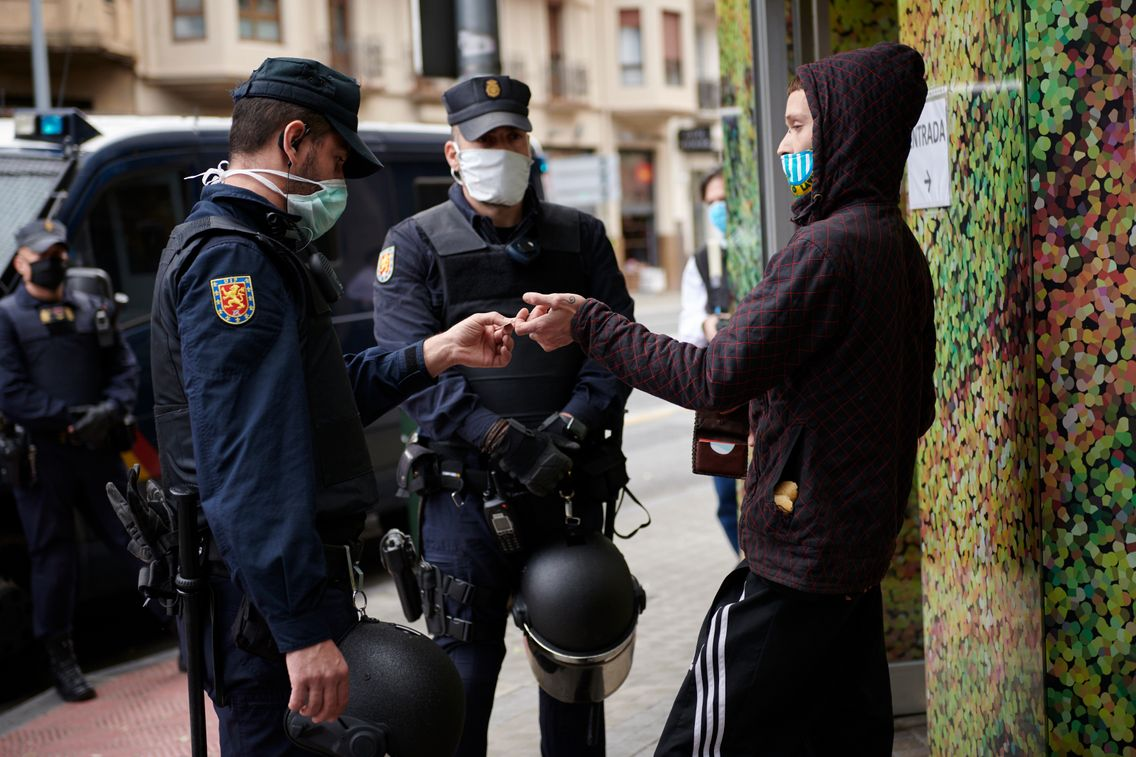with_incorrect_mask: (773, 77, 825, 191)
with_mask: (236, 95, 353, 249), (443, 113, 537, 214), (14, 226, 74, 305)
